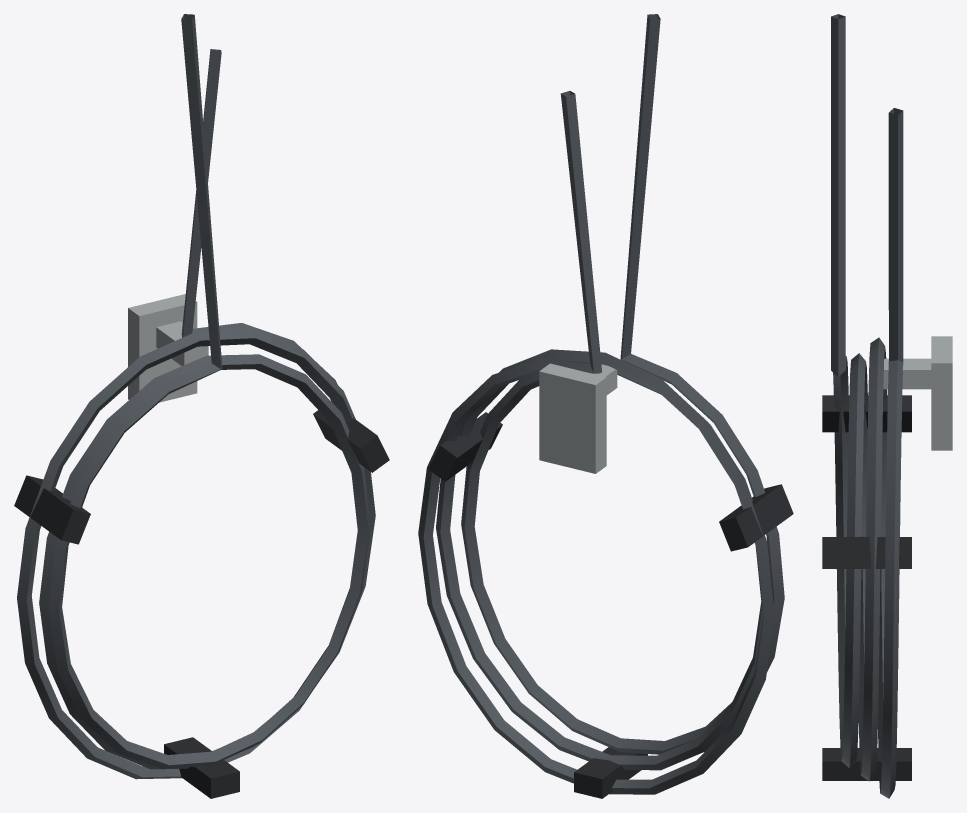
The model's file is SC_Util_Wire_Coil_Small.gltf.
The picture shows the model from 3 angles, left to right: view 1: azimuth 30°, elevation 25°; view 2: azimuth 150°, elevation 25°; view 3: azimuth 270°, elevation 25°; orthographic projection. The views are drawn at different scales.
Visible parts, largest first — view 1: SC_Util_Wire_Coil_Small; view 2: SC_Util_Wire_Coil_Small; view 3: SC_Util_Wire_Coil_Small.
Boxes of the visible parts, <box> form: SC_Util_Wire_Coil_Small: <box>14,14,389,798</box>; SC_Util_Wire_Coil_Small: <box>418,14,793,798</box>; SC_Util_Wire_Coil_Small: <box>822,14,952,798</box>.
Size of the model in its own units: 0.3726 by 0.7763 by 0.122.
Materials: 1 (1 with a texture image).
